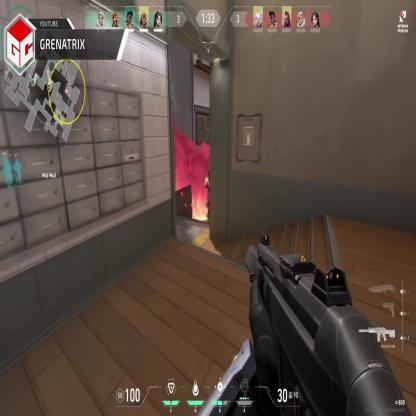enemy: (204, 170, 216, 224)
enemy_head: (207, 170, 211, 179)
